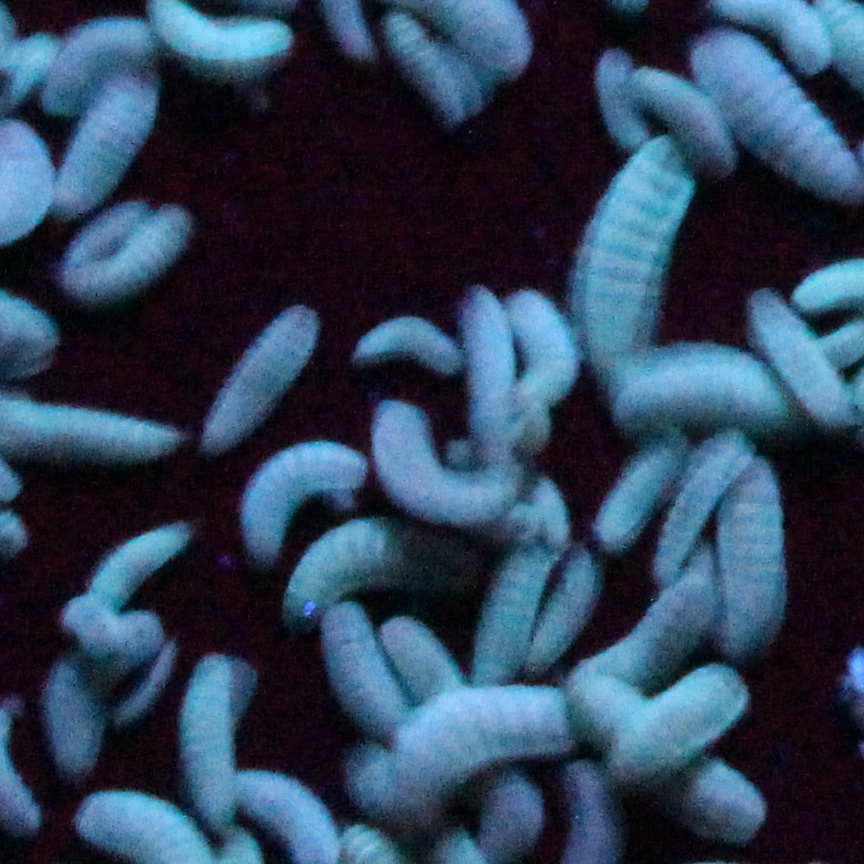larve: (573, 676, 764, 842), (566, 145, 692, 357), (602, 648, 765, 799), (178, 284, 314, 448), (359, 393, 520, 524), (51, 63, 177, 222), (234, 424, 363, 562), (706, 443, 792, 645), (309, 595, 417, 755), (54, 196, 194, 307), (394, 680, 576, 764), (171, 653, 252, 839), (663, 418, 753, 577), (626, 63, 743, 172), (77, 518, 197, 620), (593, 422, 687, 545), (472, 533, 542, 685), (380, 11, 470, 129), (500, 284, 575, 424), (349, 308, 469, 385), (541, 551, 602, 662)
